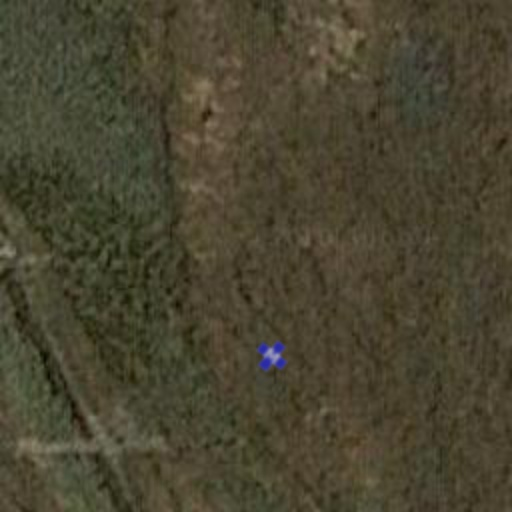cross: (248, 332, 296, 380)
